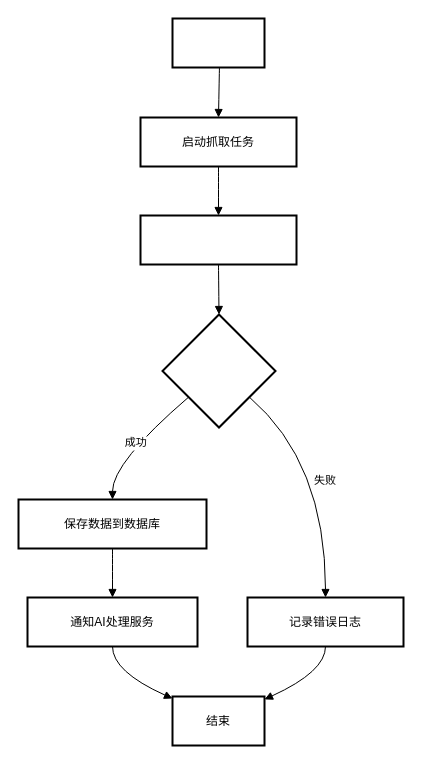
This 421x763 diagram has some shape labels left out. The shapes that lost their labels are listed below. From the top down, each one's box as (x1, y1, x2, y2) in pixels, then its label:
(171, 17, 265, 68): 开始
(139, 214, 297, 265): 抓取新闻数据
(161, 313, 276, 428): 抓取结果
